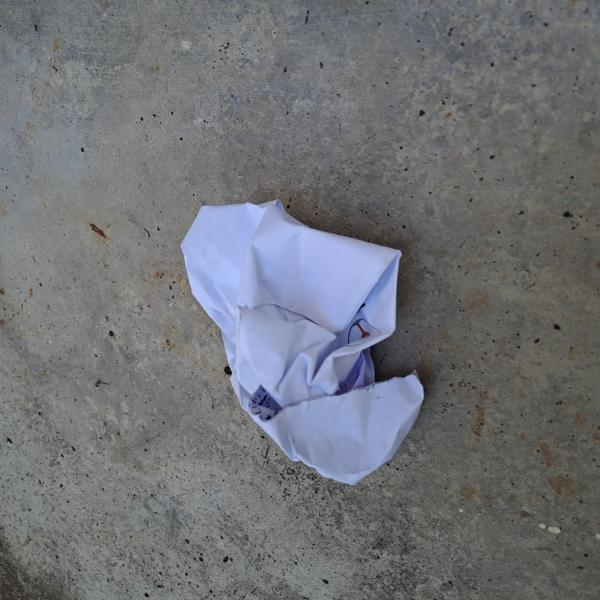Organik: (167, 197, 441, 530)
